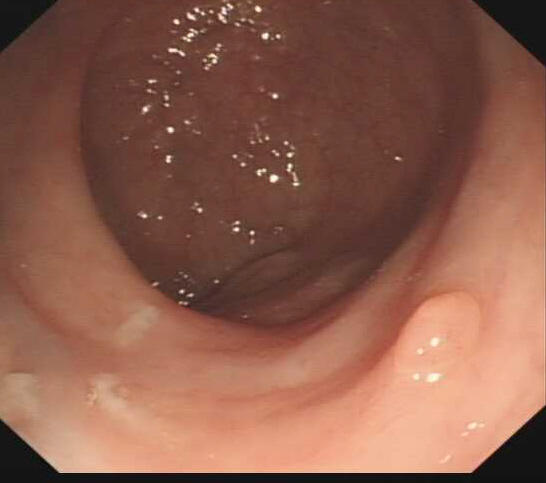adenoma: (392, 290, 482, 379)
